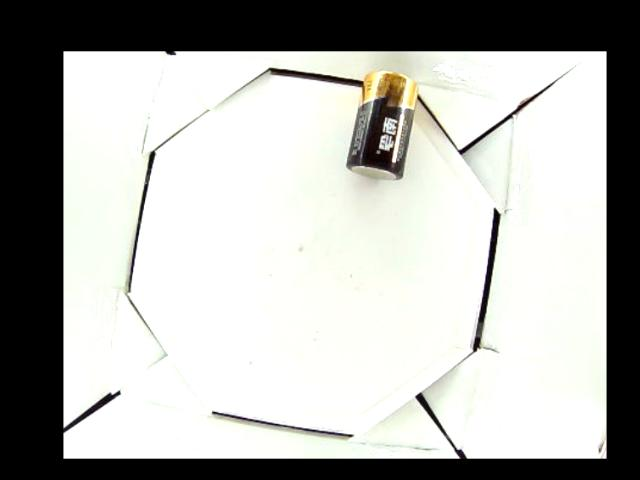Battery: (347, 69, 419, 180)
